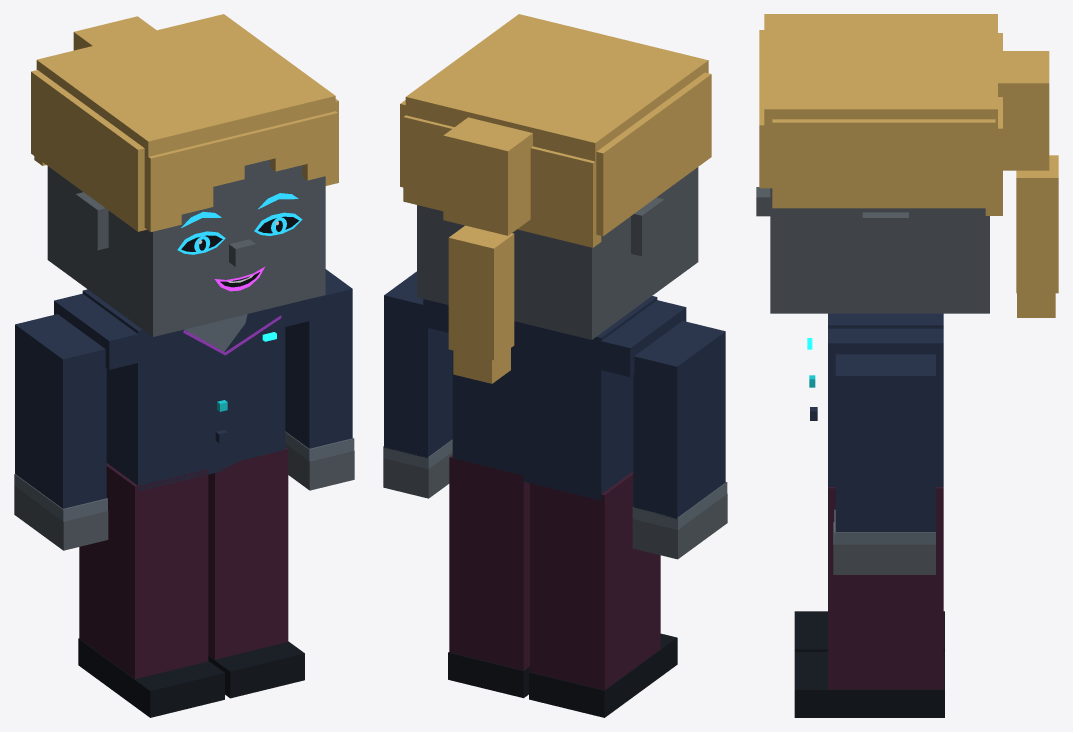
Rendered from sample_4.glb.
3 views of the same model, side by side, from view 1: azimuth 30°, elevation 25°; view 2: azimuth 150°, elevation 25°; view 3: azimuth 270°, elevation 25° (orthographic). The views are drawn at different scales.
Visible parts, largest first — view 1: char_hair_visual, char_torso_visual, char_head_visual, char_leg_negx_visual, char_arm_negx_visual, char_leg_posx_visual, char_arm_posx_visual, char_hand_negx_visual, char_hand_posx_visual, char_eye_negx_visual, char_eye_posx_visual; view 2: char_hair_visual, char_torso_visual, char_head_visual, char_leg_negx_visual, char_arm_negx_visual, char_leg_posx_visual, char_arm_posx_visual, char_hand_negx_visual, char_hand_posx_visual; view 3: char_hair_visual, char_head_visual, char_arm_posx_visual, char_leg_posx_visual, char_torso_visual, char_hand_posx_visual, char_leg_negx_visual.
Part boxes in pixels (x1,y1,x2,y2): char_hair_visual: (31,14,338,231); char_torso_visual: (54,289,313,561); char_head_visual: (47,159,325,336); char_leg_negx_visual: (78,541,224,717); char_arm_negx_visual: (14,314,107,521); char_leg_posx_visual: (208,523,304,698); char_arm_posx_visual: (285,269,354,461); char_hand_negx_visual: (14,486,108,550); char_hand_posx_visual: (285,444,354,490); char_eye_negx_visual: (177,231,225,254); char_eye_posx_visual: (254,212,302,235); char_hair_visual: (400,14,711,383); char_torso_visual: (423,296,686,569); char_head_visual: (417,167,698,339); char_leg_negx_visual: (529,549,677,717); char_arm_negx_visual: (632,321,727,529); char_leg_posx_visual: (448,532,529,698); char_arm_posx_visual: (383,271,452,469); char_hand_negx_visual: (632,494,727,559); char_hand_posx_visual: (383,452,452,498); char_hair_visual: (759,14,1058,317); char_head_visual: (756,187,989,313); char_arm_posx_visual: (834,354,935,544); char_leg_posx_visual: (794,568,944,717); char_torso_visual: (809,313,943,570); char_hand_posx_visual: (833,522,935,574); char_leg_negx_visual: (794,611,944,651).
Size of the model in its own units: 0.91 by 1.77 by 0.784.
